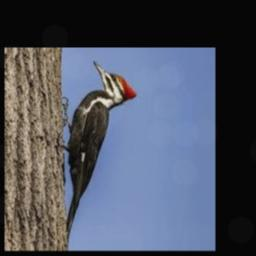Woodpecker: (61, 60, 137, 244)
